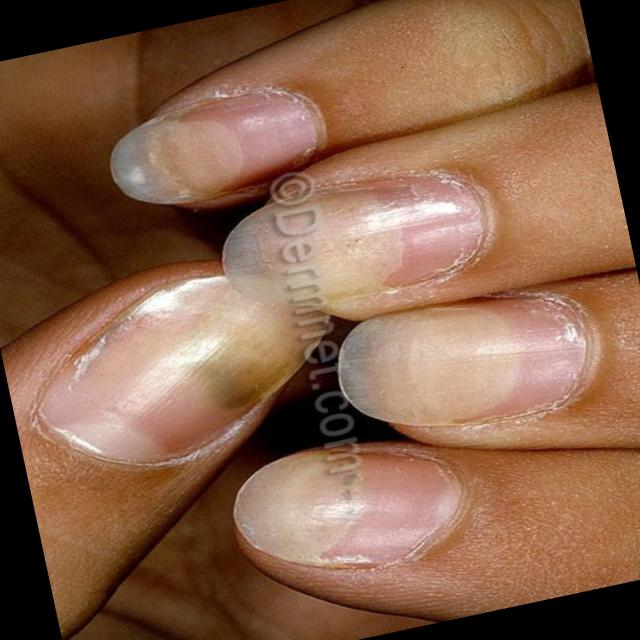Nail: (39, 278, 328, 462), (336, 296, 585, 426), (223, 181, 481, 306), (231, 448, 458, 569), (112, 92, 316, 202)
